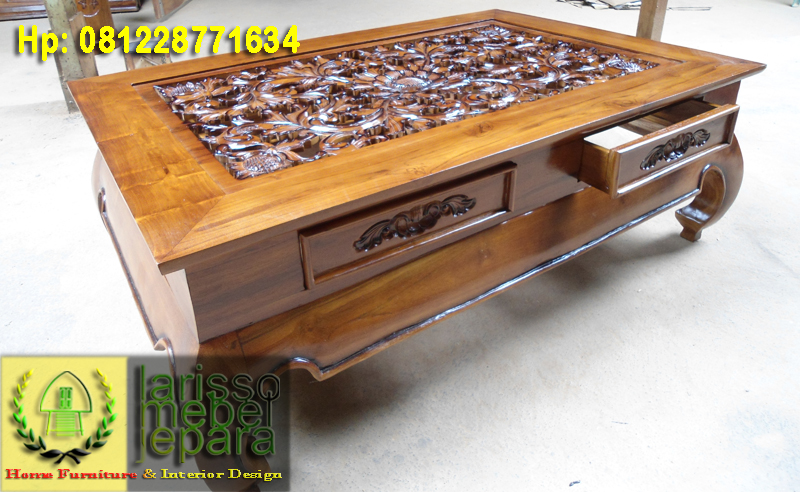Carving Table: (61, 43, 747, 349)
